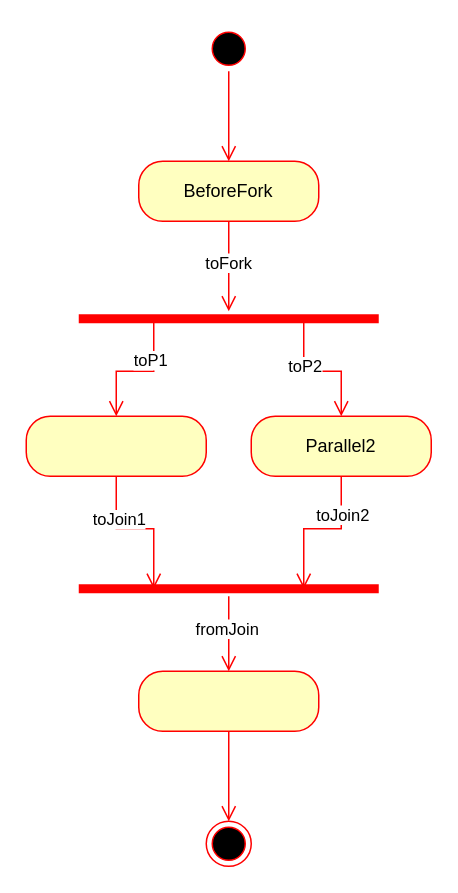
This 458x893 diagram has some shape labels left out. Each missing label, with the centre of its shape:
AfterJoin: point 228,700
Parallel1: point 115,445
